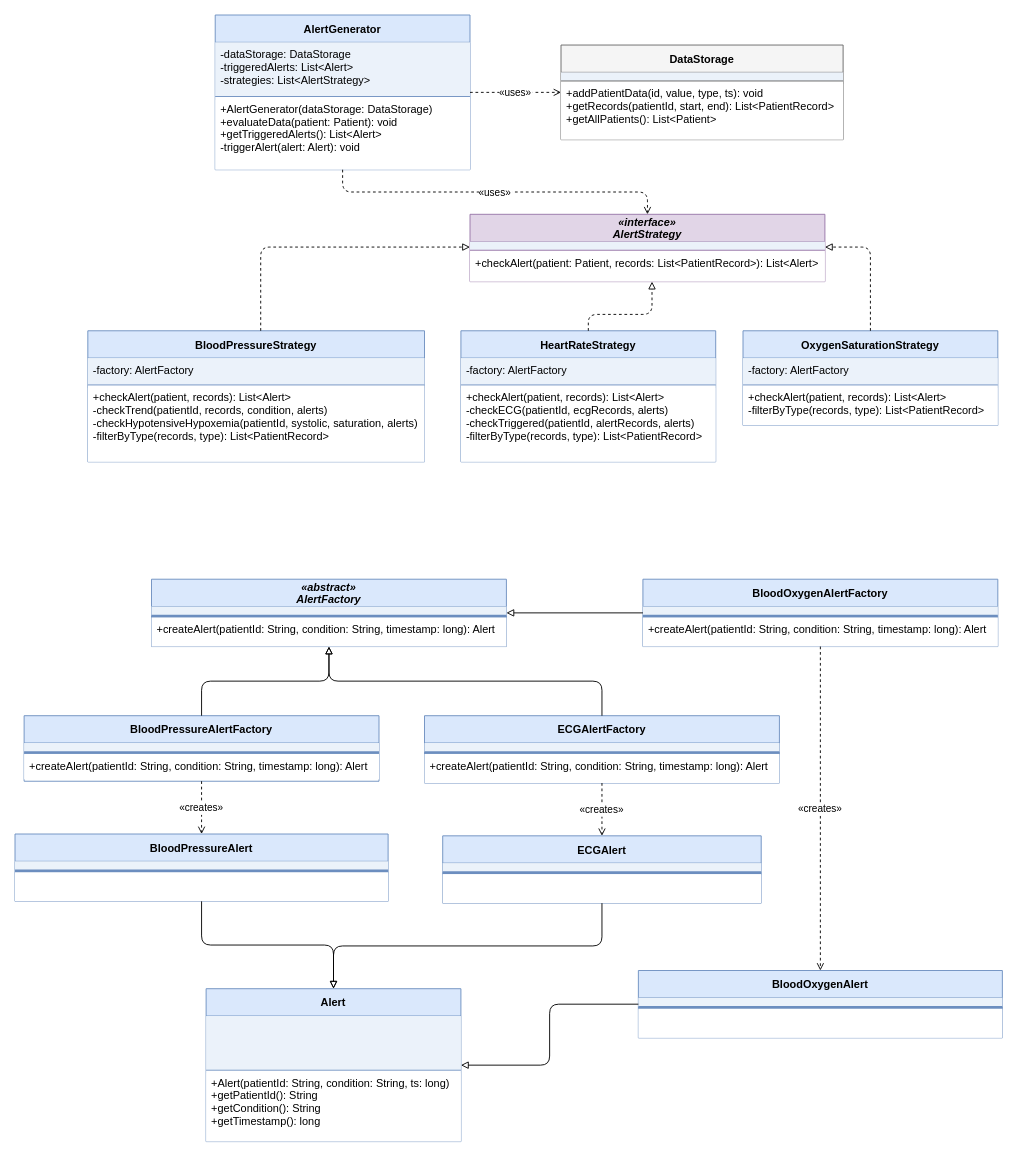
This 1017x1157 diagram has some shape labels left out. Each missing label, with the centre of its shape:
"+BloodOxygenAlert(patientId: String, condition: String, timestamp: long)" goes at point 820,1022.
"+BloodPressureAlert(patientId: String, condition: String, timestamp: long)" goes at point 201,886.
"+ECGAlert(patientId: String, condition: String, timestamp: long)" goes at point 601,888.
"-patientId: String -condition: String -timestamp: long" goes at point 333,1043.
